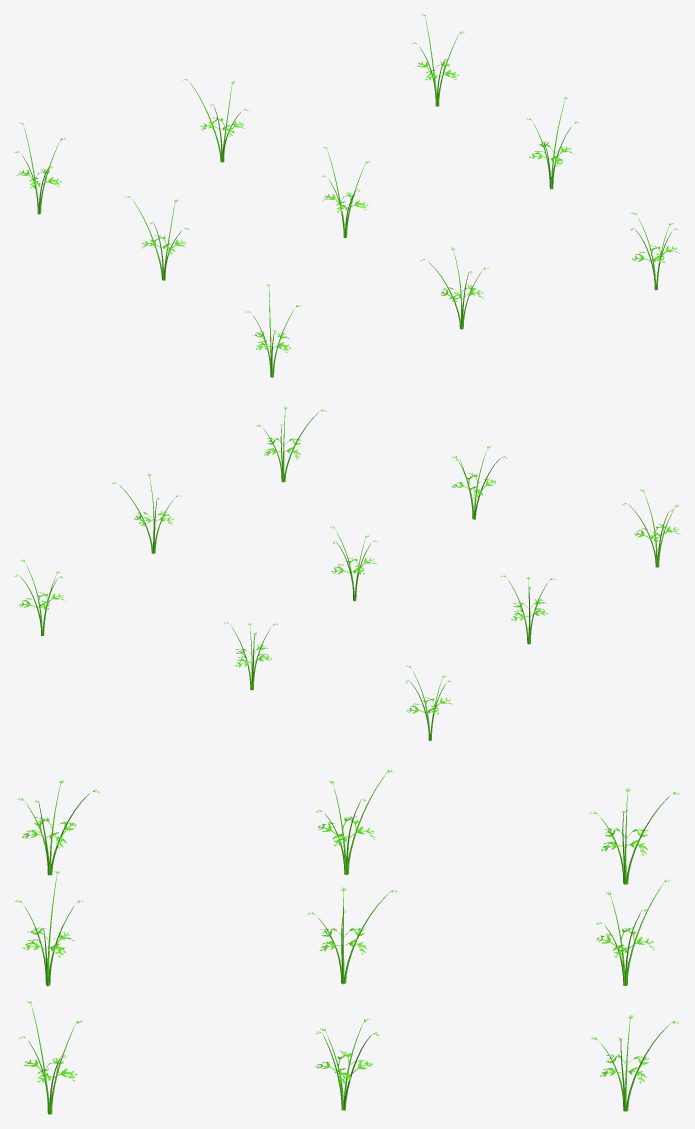
File: Carrot_lvl2.fbx
3 views of the same model, one above another, from view 1: azimuth 30°, elevation 25°; view 2: azimuth 150°, elevation 25°; view 3: azimuth 270°, elevation 25° (orthographic). The views are drawn at different scales.
Visible parts, largest first — view 1: Carrot_lvl2_LOD0; view 2: Carrot_lvl2_LOD0; view 3: Carrot_lvl2_LOD0.
Boxes of the visible parts, x1=… form: Carrot_lvl2_LOD0: x1=14, y1=14, x2=680, y2=377; Carrot_lvl2_LOD0: x1=14, y1=406, x2=680, y2=740; Carrot_lvl2_LOD0: x1=15, y1=769, x2=679, y2=1114.
Size of what is drawn, in the model's own units: 93.81 by 90.74 by 17.04.
